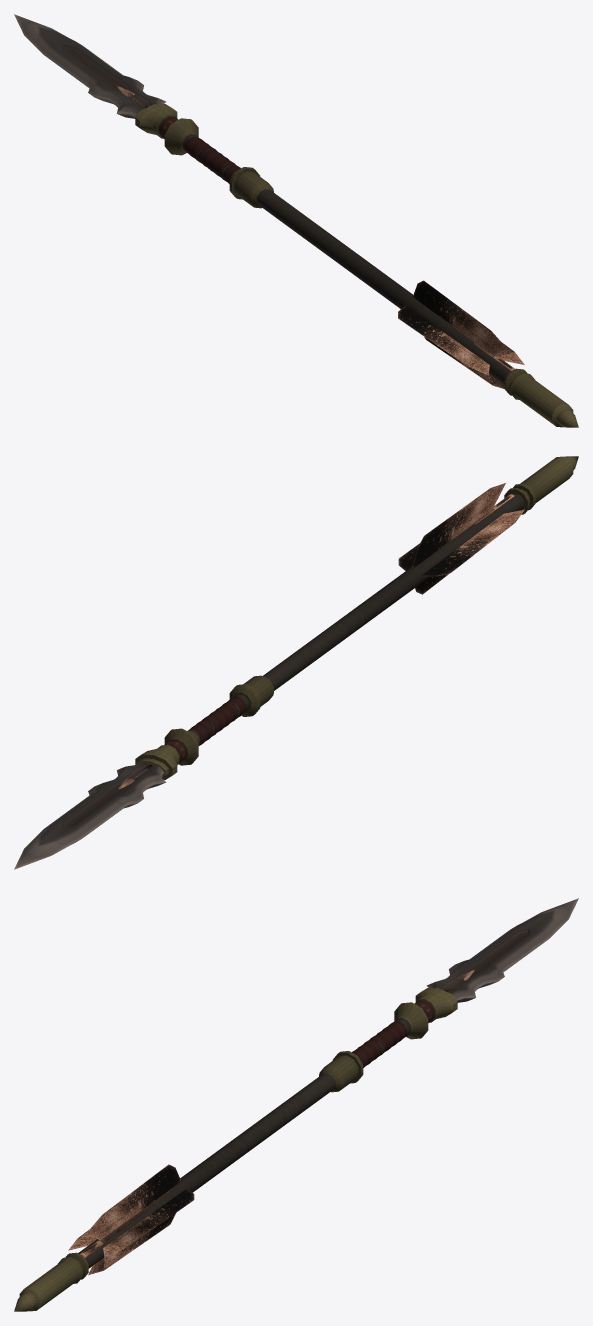
Rendered from tombak-dan-panah.fbx.
3 renders of one model, top to bottom at view 1: azimuth 30°, elevation 25°; view 2: azimuth 150°, elevation 25°; view 3: azimuth 330°, elevation 25°, orthographic.
Visible parts, largest first — view 1: TOMBAK, PANAH; view 2: TOMBAK, PANAH; view 3: TOMBAK, PANAH.
Part boxes in pixels (x1,y1,x2,y2): TOMBAK: (14, 14, 578, 427); PANAH: (117, 86, 524, 388); TOMBAK: (14, 456, 578, 869); PANAH: (118, 483, 524, 789); TOMBAK: (14, 898, 578, 1311); PANAH: (68, 969, 474, 1275).
Bounding box in the file's own units: 1.87 × 2.06 × 35.4.
2 materials, 2 textured.
